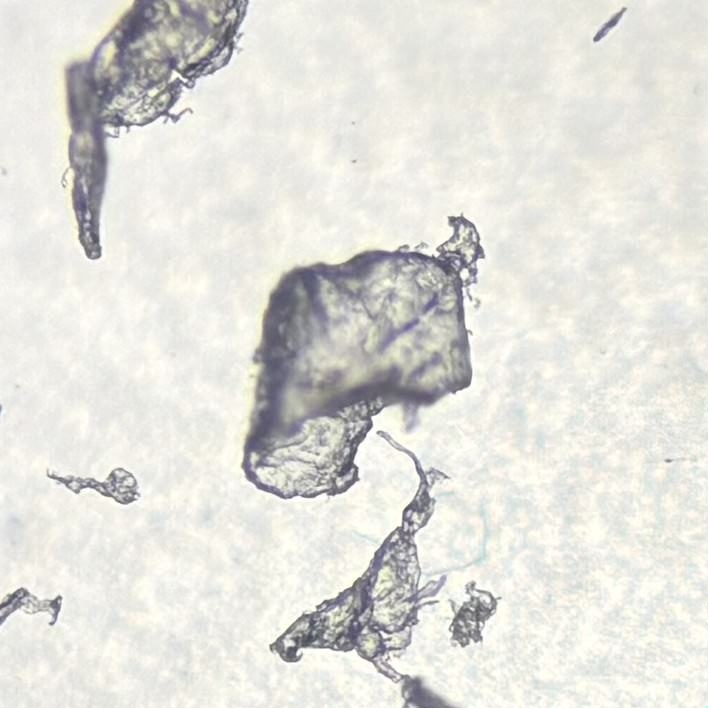microplastic: (241, 214, 486, 501), (270, 430, 468, 708), (58, 1, 249, 260), (44, 467, 141, 506), (449, 580, 503, 647), (1, 589, 62, 627), (593, 5, 629, 43)
